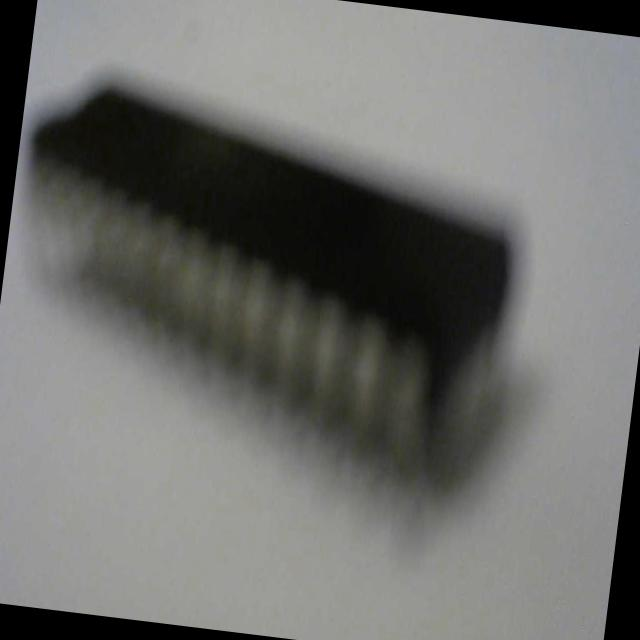atmega: (0, 59, 544, 520)
